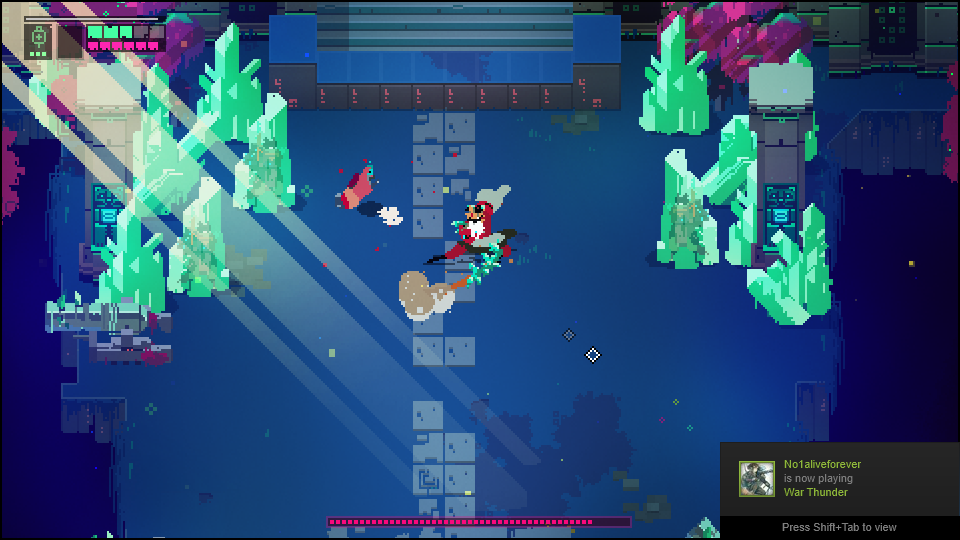hanged_man: (425, 183, 521, 301)
player: (335, 162, 377, 211)
